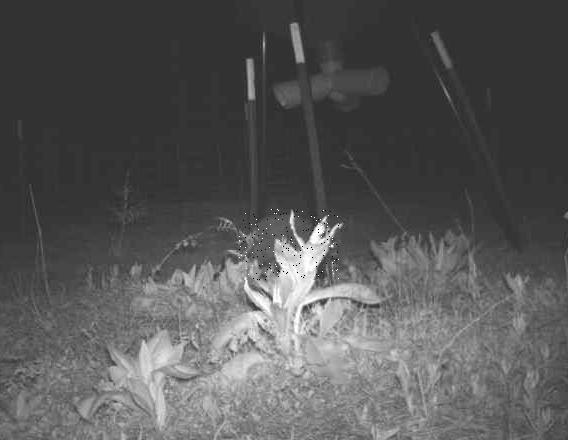Raccoon: (240, 210, 340, 281)
